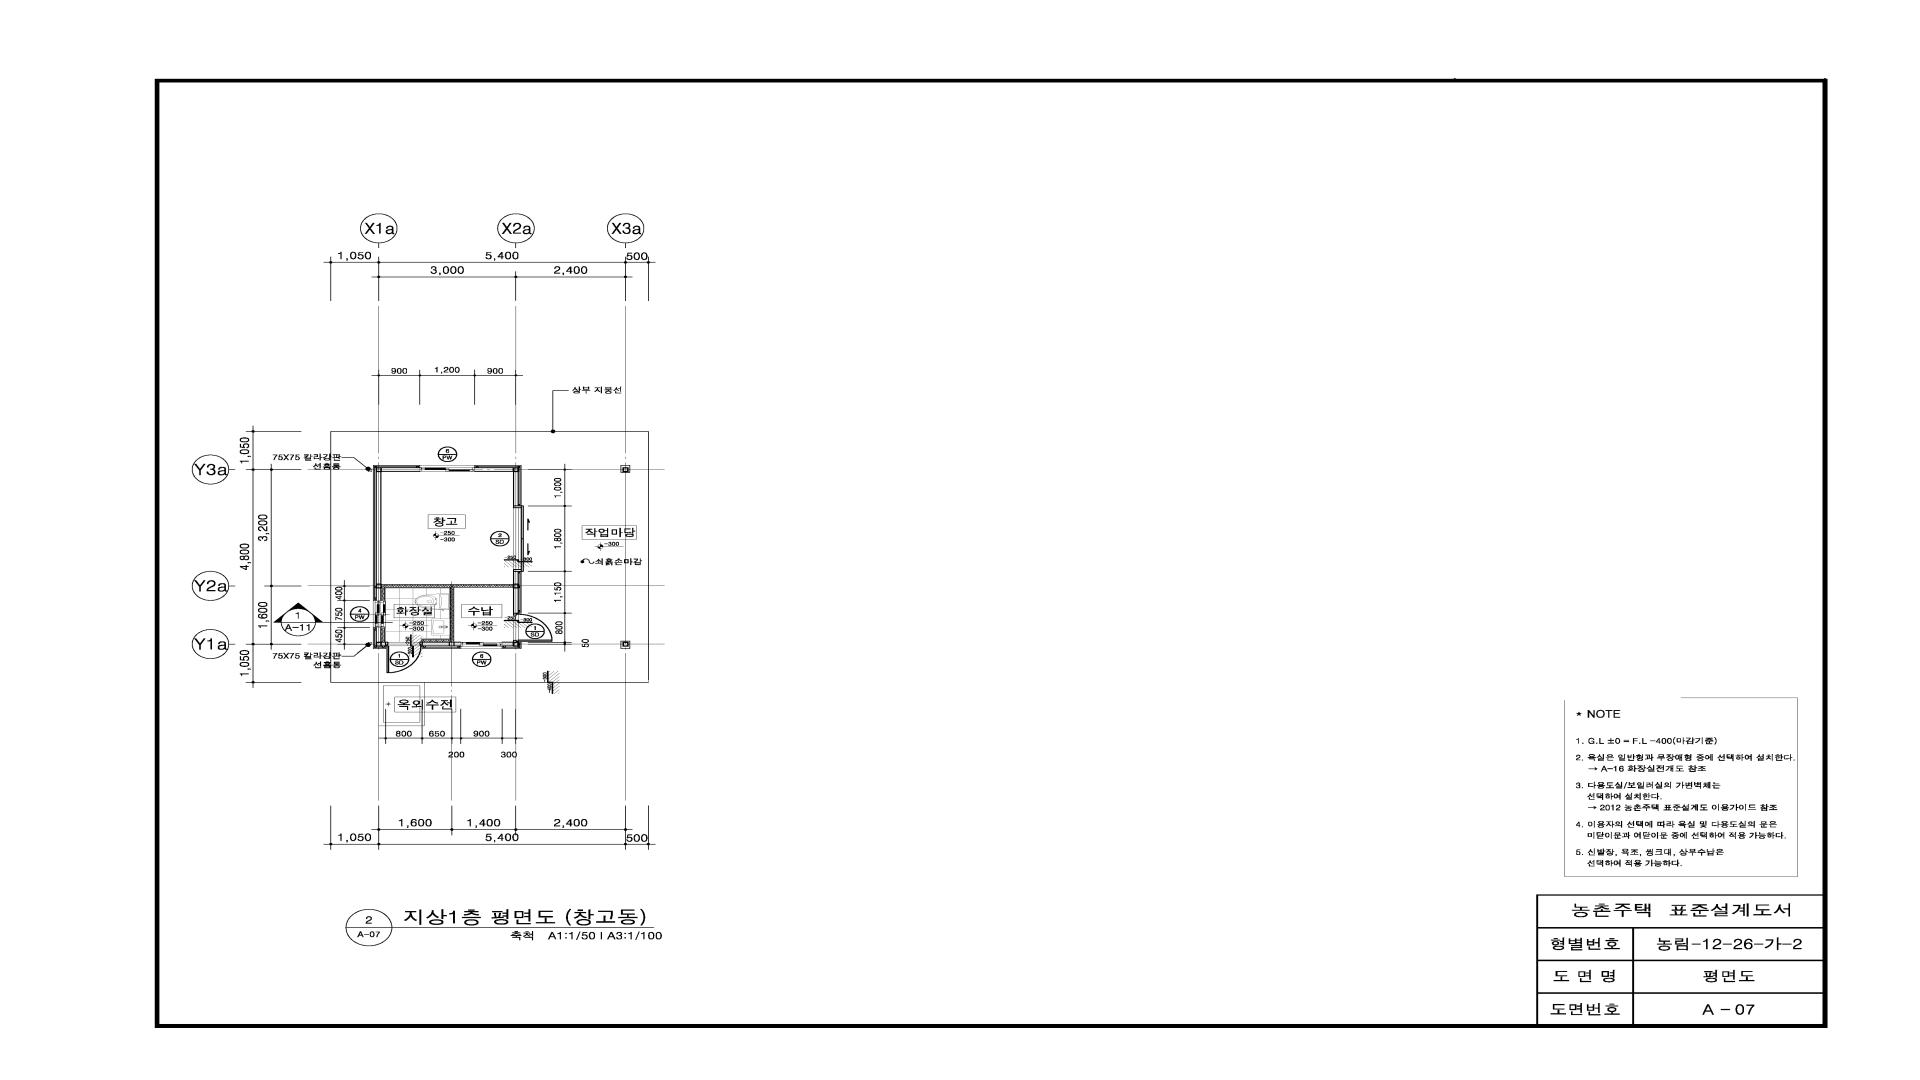door: (513, 613, 553, 642), (386, 642, 422, 674), (513, 505, 524, 572)
wall: (373, 465, 421, 600), (381, 584, 513, 600), (475, 465, 522, 505), (422, 588, 454, 642), (513, 572, 521, 613), (373, 628, 386, 649), (422, 642, 462, 649), (501, 642, 521, 649), (380, 628, 385, 642)
window: (373, 600, 386, 628), (421, 465, 475, 472), (462, 642, 501, 649)
